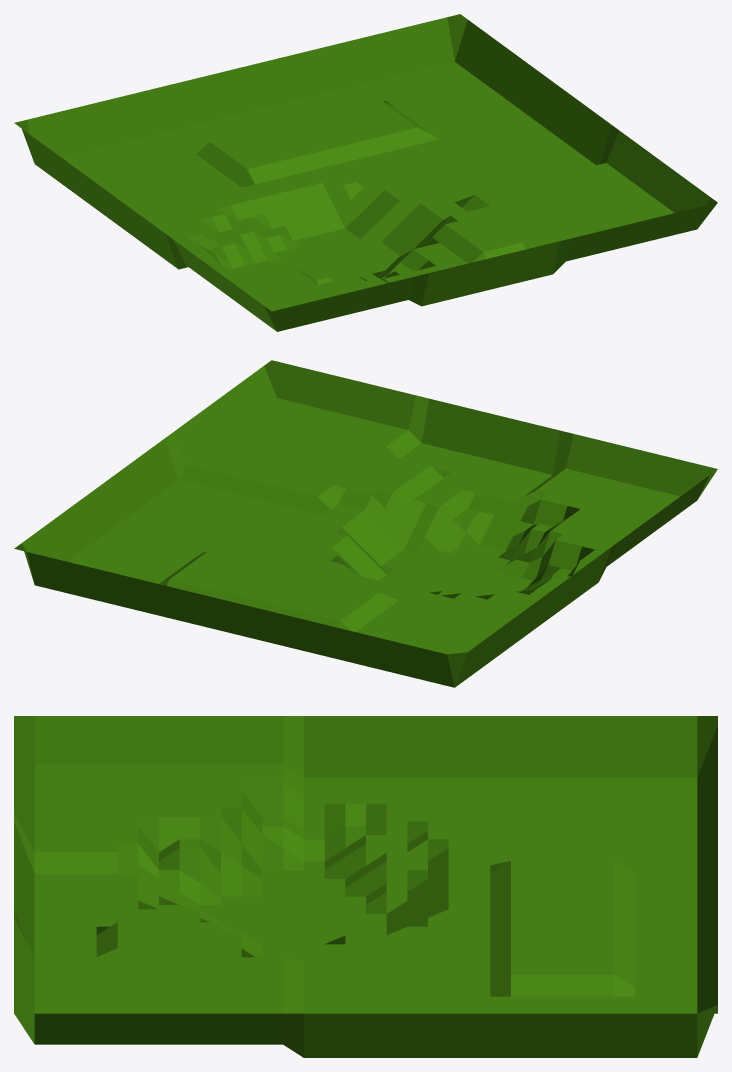
The model's file is terrain1.gltf.
The picture shows the model from 3 angles, top to bottom: view 1: azimuth 30°, elevation 25°; view 2: azimuth 150°, elevation 25°; view 3: azimuth 270°, elevation 25°; orthographic projection. The views are drawn at different scales.
Visible parts, largest first — view 1: plane; view 2: plane; view 3: plane.
Part boxes in pixels (<box>): plane: <box>14,14,717,331</box>; plane: <box>14,360,717,687</box>; plane: <box>14,716,717,1057</box>.
Bounding box in the file's own units: 3 × 0.4375 × 3.
1 material, 1 textured.
